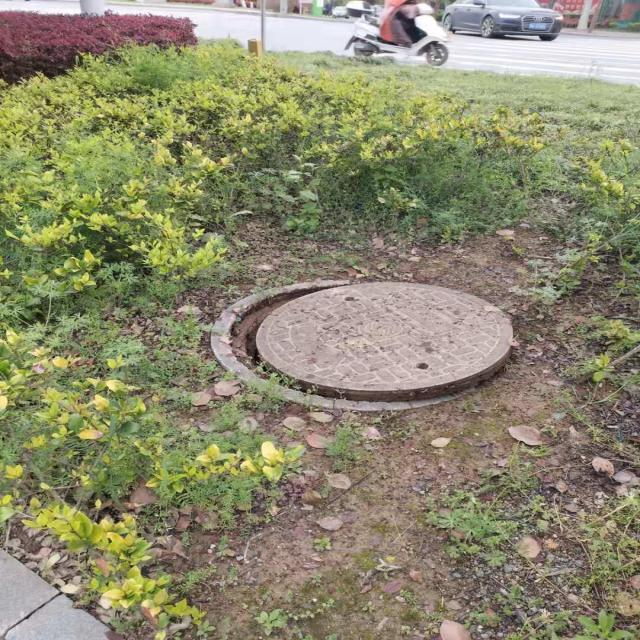Faulty: (212, 280, 512, 410)
